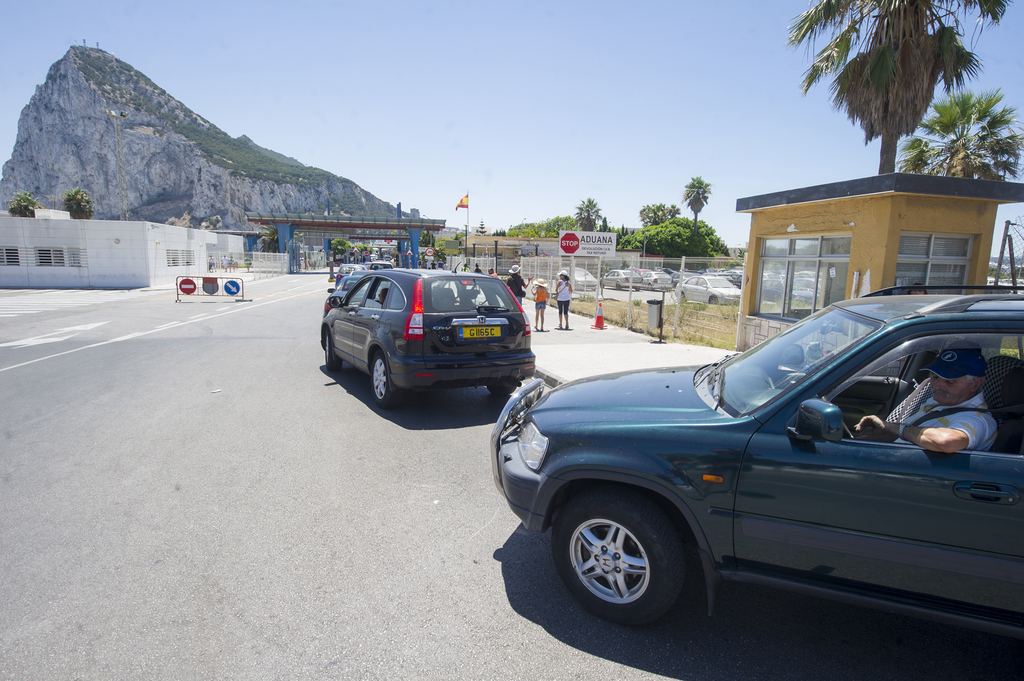Car: (488, 295, 1023, 643), (318, 261, 535, 409), (321, 273, 388, 316), (334, 263, 367, 291), (367, 259, 393, 272), (384, 254, 391, 261), (369, 253, 376, 256)
